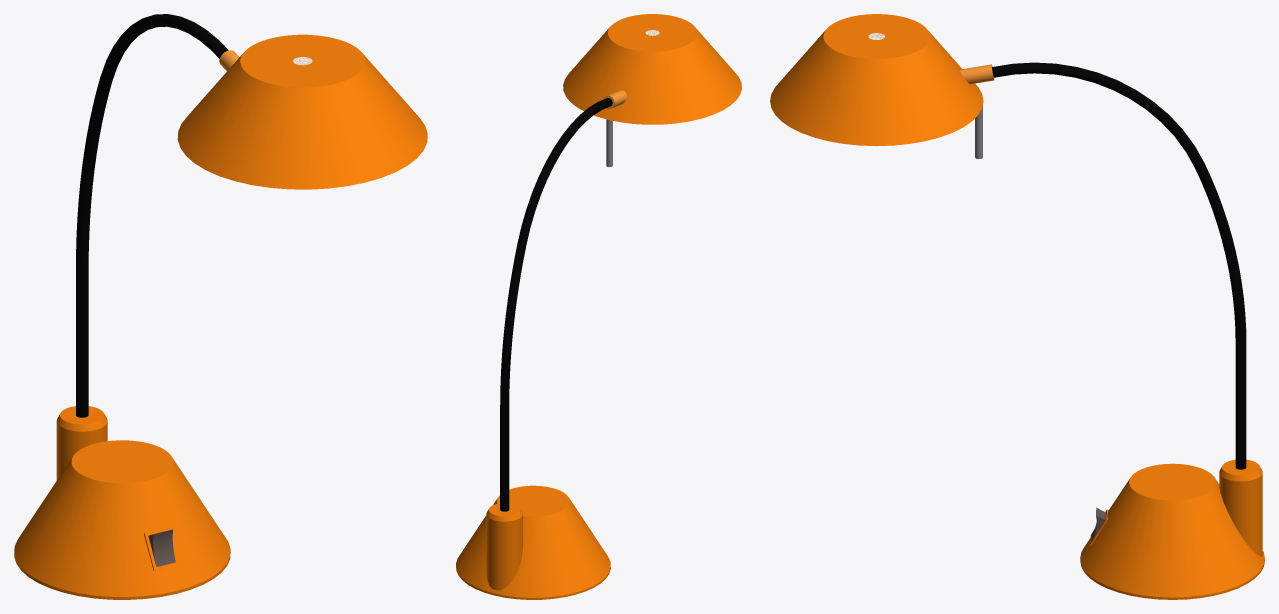
Rendered from desklamp.dae.
The picture shows the model from 3 angles, left to right: view 1: azimuth 30°, elevation 25°; view 2: azimuth 150°, elevation 25°; view 3: azimuth 270°, elevation 25°; orthographic projection. The views are drawn at different scales.
Parts seen in each view (by area): view 1: group_4, group_9 (×2), group_2, group_1, group_8, Group_3; view 2: group_4, group_9 (×2), group_2, group_1, group_8; view 3: group_4, group_9 (×2), group_2, group_1.
Part boxes in pixels (left/top/right/bottom): group_4: left=177, top=34, right=427, bottom=189; group_9 (×2): left=14, top=440, right=230, bottom=596; group_2: left=76, top=14, right=228, bottom=417; group_1: left=56, top=406, right=107, bottom=480; group_8: left=14, top=551, right=230, bottom=599; Group_3: left=148, top=529, right=175, bottom=566; group_4: left=563, top=14, right=741, bottom=124; group_9 (×2): left=456, top=485, right=610, bottom=597; group_2: left=500, top=98, right=612, bottom=511; group_1: left=486, top=503, right=522, bottom=590; group_8: left=456, top=566, right=610, bottom=599; group_4: left=770, top=14, right=983, bottom=146; group_9 (×2): left=1080, top=463, right=1264, bottom=597; group_2: left=992, top=62, right=1246, bottom=469; group_1: left=1219, top=459, right=1262, bottom=556.
Size of the model in its own units: 4.91 by 11.38 by 13.38.
